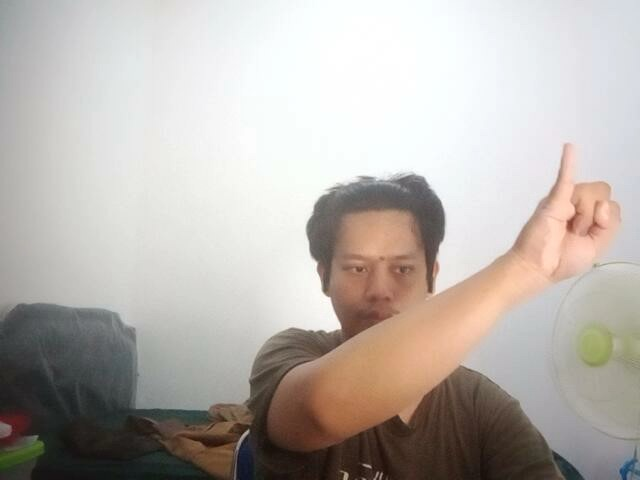I: (516, 137, 628, 280)
